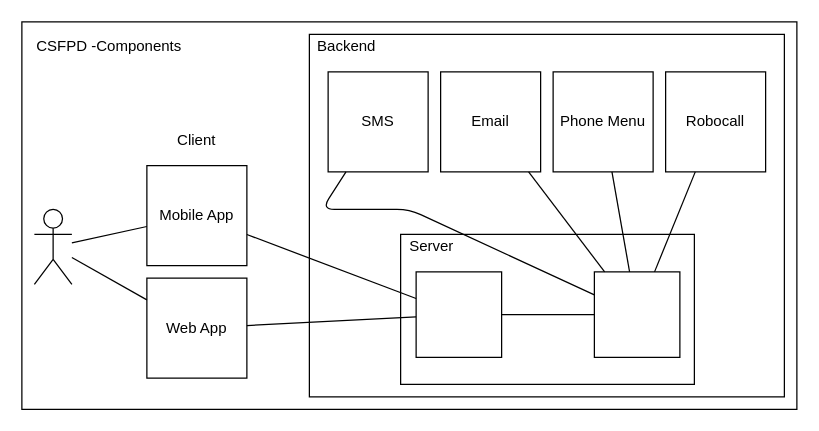
Image size: 819x431. Some labels were removed from this diagram. The box of each missing label's shape, as (x1, y1, x2, y2) in pixels:
Database: (415, 271, 502, 357)
Scripting: (593, 271, 680, 357)
User: (33, 208, 72, 284)
